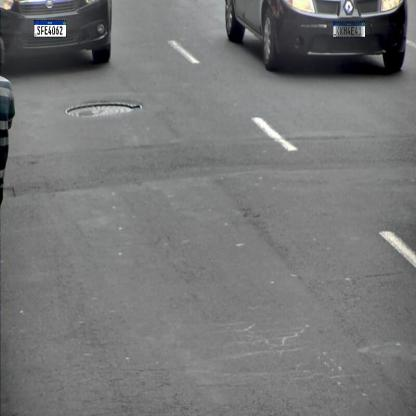PlacaM: (34, 20, 66, 38), (332, 22, 366, 38)
